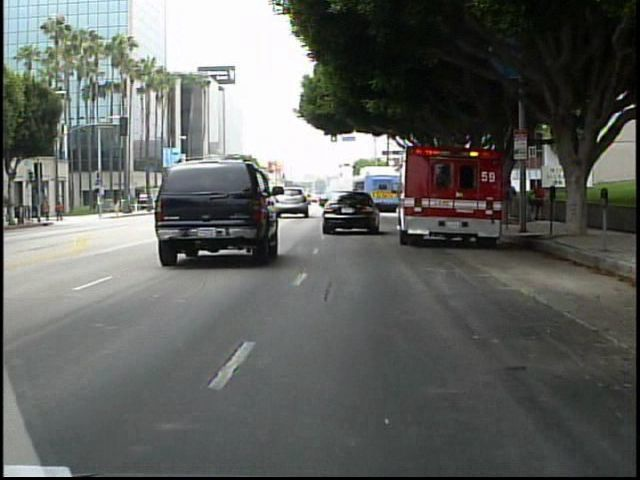person: (530, 178, 547, 225), (54, 198, 67, 224), (42, 200, 54, 224)
